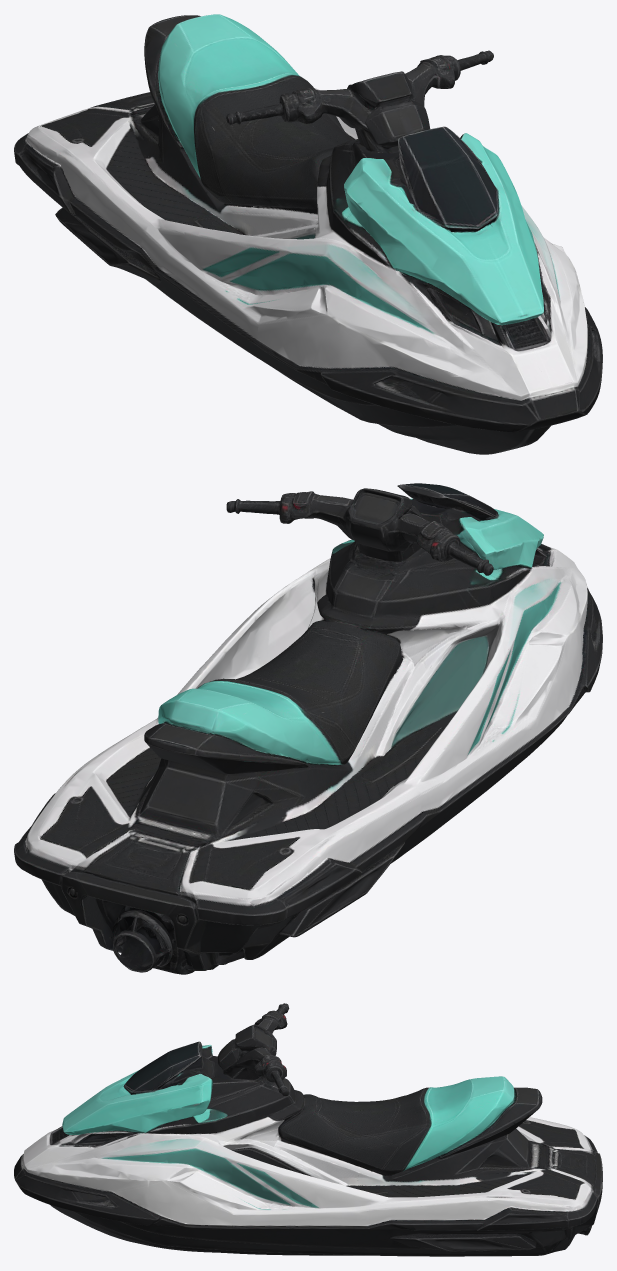
File: mara-ski-aqua-surge.glb
3 renders of one model, top to bottom at view 1: azimuth 30°, elevation 25°; view 2: azimuth 150°, elevation 25°; view 3: azimuth 270°, elevation 25°, orthographic. The views are drawn at different scales.
Parts seen in each view (by area): view 1: mara-ski-aqua-surge; view 2: mara-ski-aqua-surge; view 3: mara-ski-aqua-surge.
Boxes of the visible parts, left/top/right/bottom form: mara-ski-aqua-surge: left=14, top=14, right=602, bottom=454; mara-ski-aqua-surge: left=14, top=483, right=602, bottom=974; mara-ski-aqua-surge: left=14, top=1003, right=602, bottom=1256.
Bounding box in the file's own units: 1.26 × 1.31 × 3.2.
Materials: 1 (1 with a texture image).
